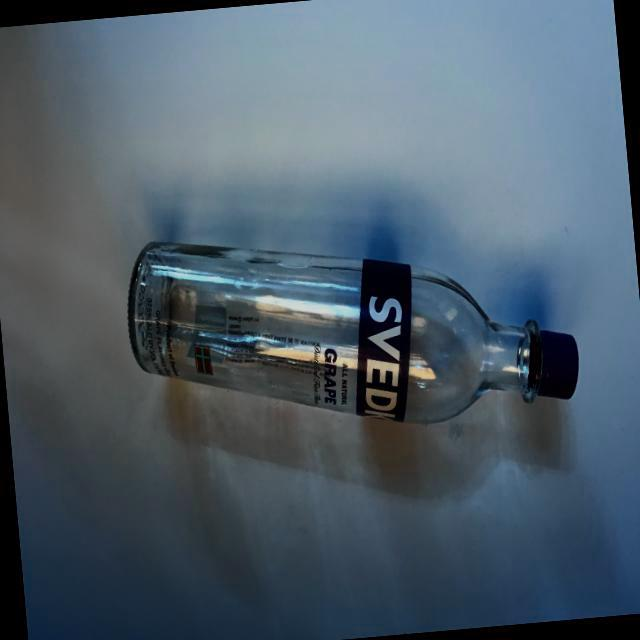glass: (110, 182, 592, 464)
